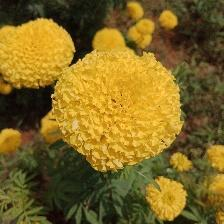marigold: (52, 46, 189, 171)
